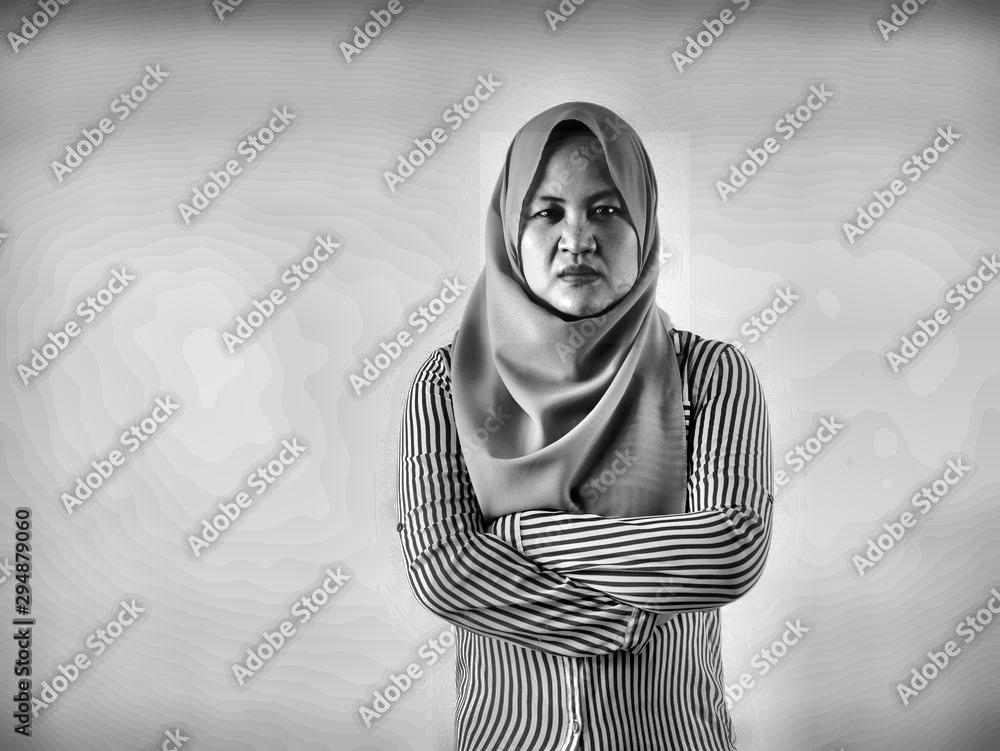angry: (480, 132, 690, 343)
